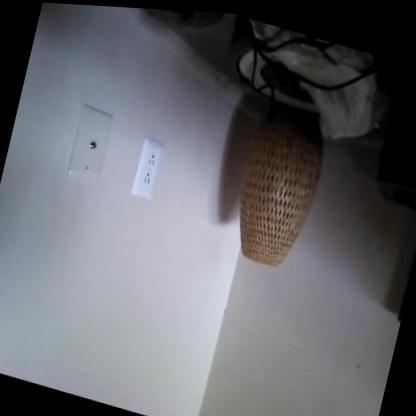OUTLET: (130, 138, 165, 202)
